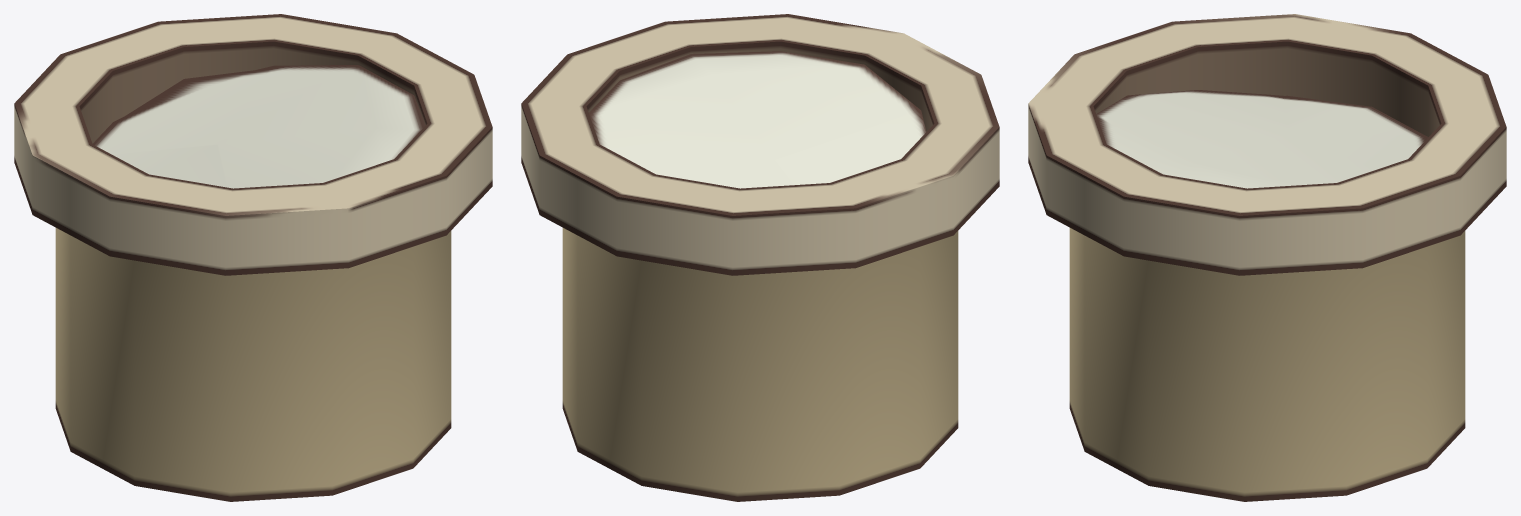
File: Flour Packet.fbx
3 renders of one model, left to right at view 1: azimuth 30°, elevation 25°; view 2: azimuth 150°, elevation 25°; view 3: azimuth 270°, elevation 25°, orthographic.
Parts seen in each view (by area): view 1: Flour_Packet1; view 2: Flour_Packet1; view 3: Flour_Packet1.
Part boxes in pixels (bbox=[...]): Flour_Packet1: bbox=[14, 14, 492, 501]; Flour_Packet1: bbox=[521, 14, 999, 501]; Flour_Packet1: bbox=[1028, 14, 1506, 501].
Size of the model in its own units: 0.3495 by 0.2447 by 0.3495.
